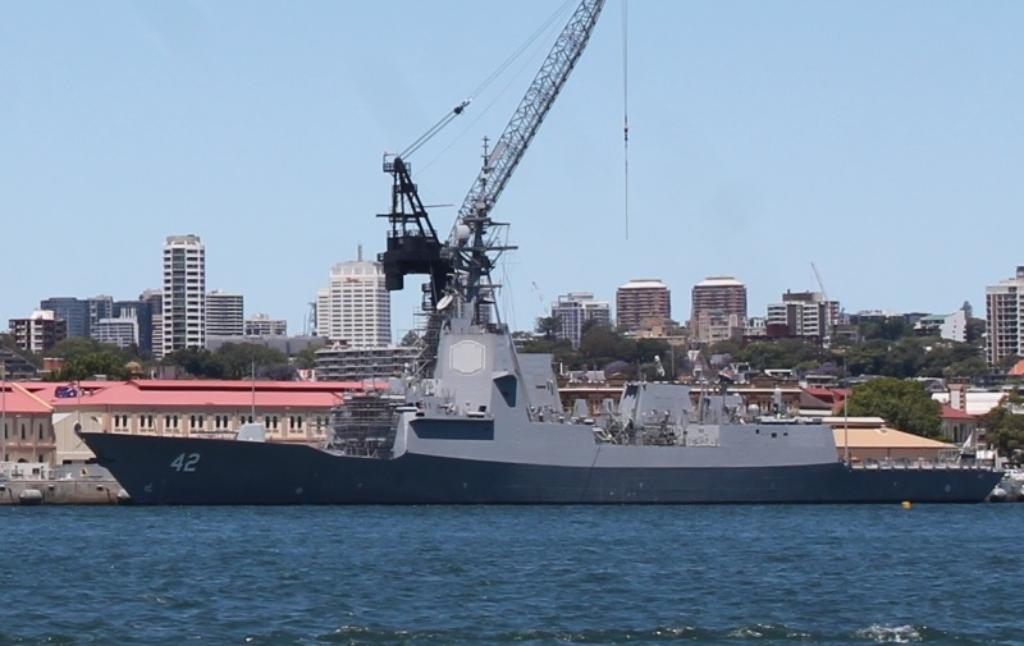Warship: (72, 131, 1014, 507)
